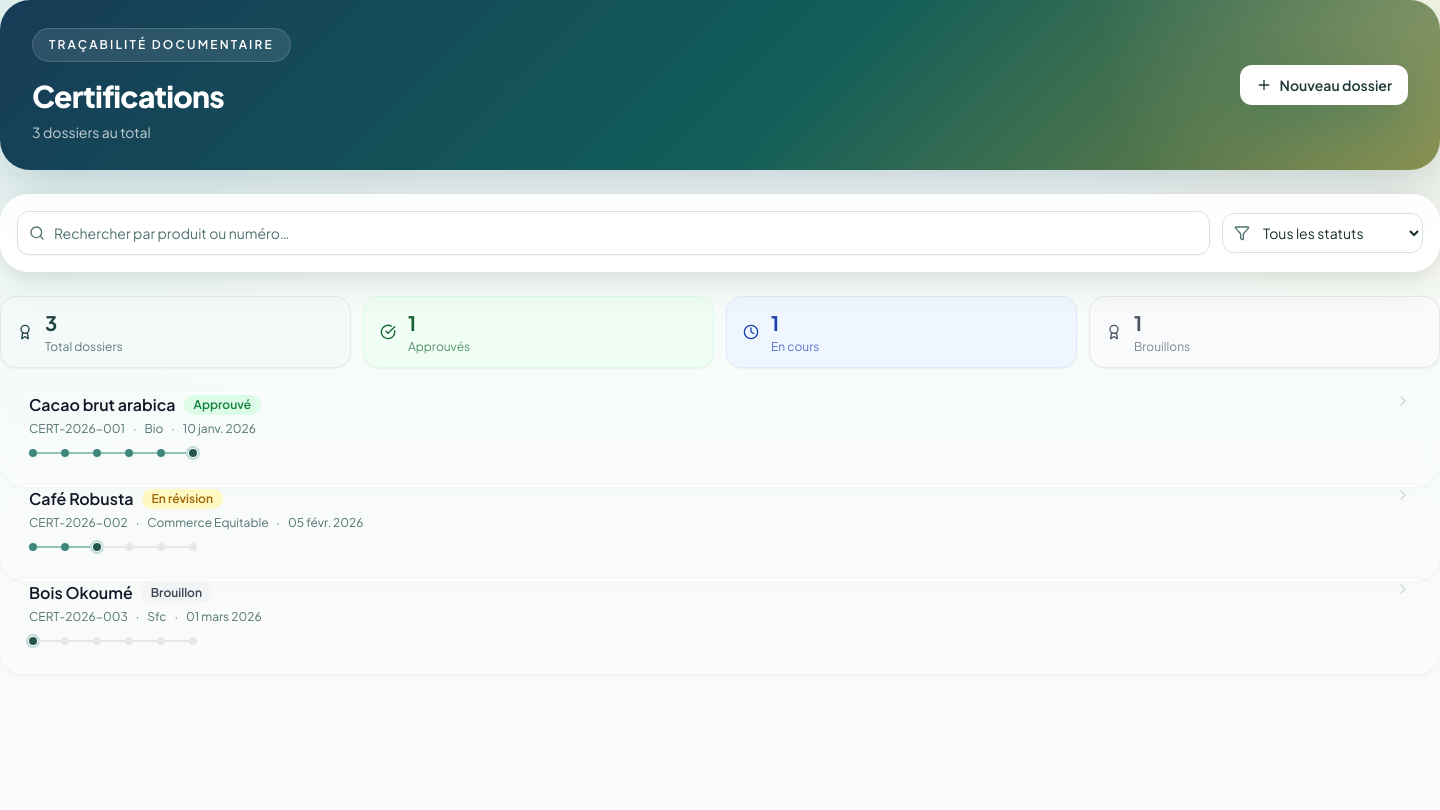
Test case: CertificationListPage — search filter › filters results by product name on input
Expected: the text "Cacao brut arabica" is shown, [29,393,176,417]
Type "Cacao" into the field with placeholder "Rechercher par produit ou numéro…" at (614, 233), box [17,211,1210,255]
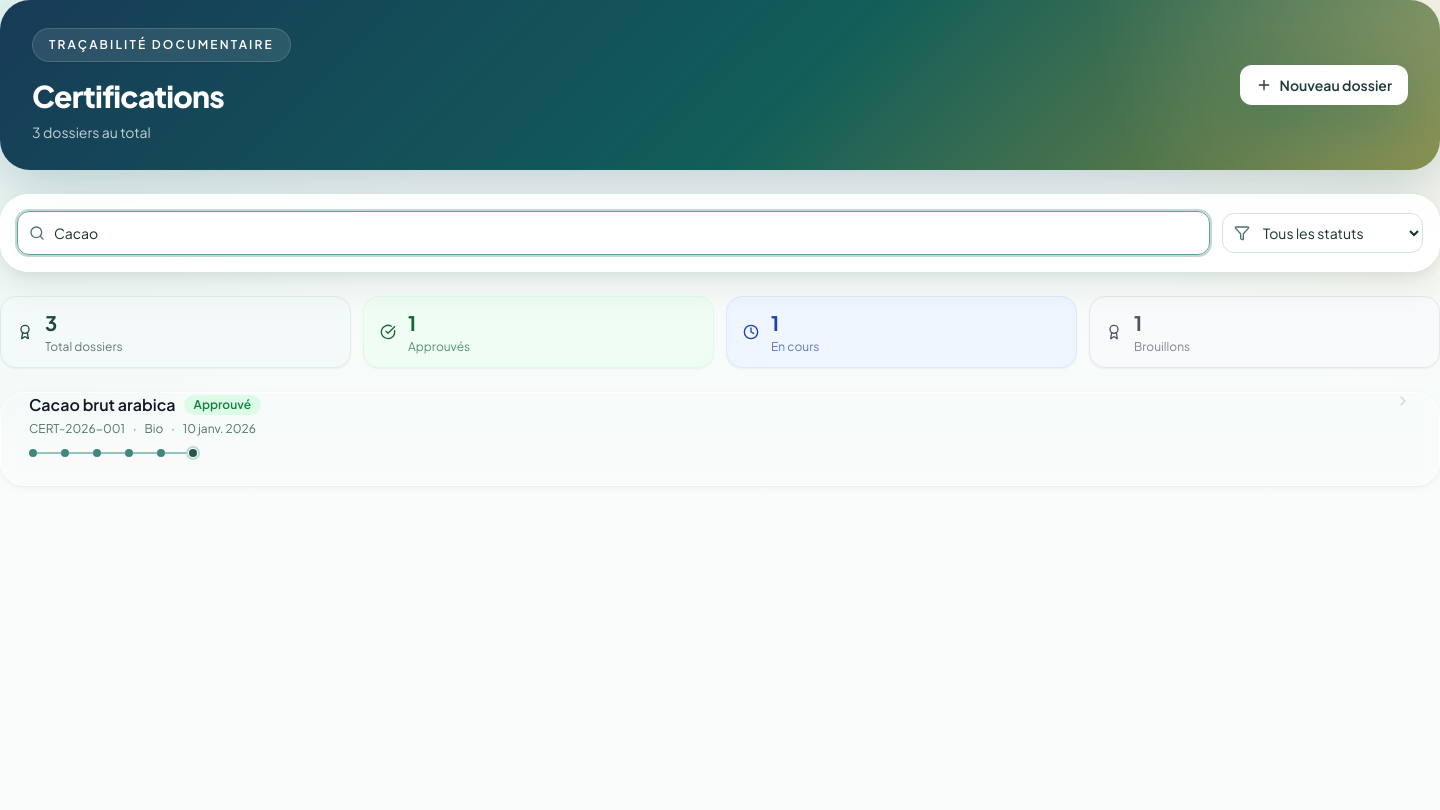
Expected: the text "Cacao brut arabica" is shown, [29,393,176,417]
Result: the link "Café Robusta" is gone
Result: the link "Bois Okoumé" is gone
